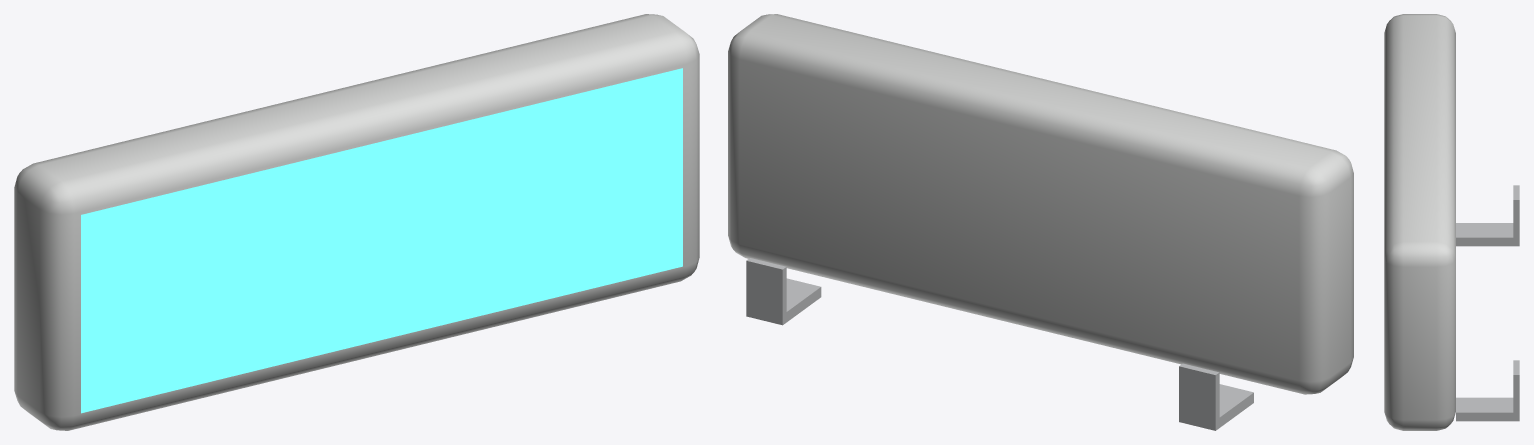
The model's file is exitsign.glb.
3 views of the same model, side by side, from view 1: azimuth 30°, elevation 25°; view 2: azimuth 150°, elevation 25°; view 3: azimuth 270°, elevation 25° (orthographic). The views are drawn at different scales.
Visible parts, largest first — view 1: ExitFace, ExitBox; view 2: ExitBox, ExitBracket; view 3: ExitBox, ExitBracket.
Part boxes in pixels (x1=…): ExitFace: x1=81, y1=68, x2=682, y2=413; ExitBox: x1=14, y1=14, x2=699, y2=430; ExitBox: x1=728, y1=14, x2=1353, y2=394; ExitBracket: x1=746, y1=258, x2=1253, y2=430; ExitBox: x1=1384, y1=14, x2=1455, y2=430; ExitBracket: x1=1456, y1=185, x2=1519, y2=421.
Bounding box in the file's own units: 0.36 × 0.137 × 0.0862.
